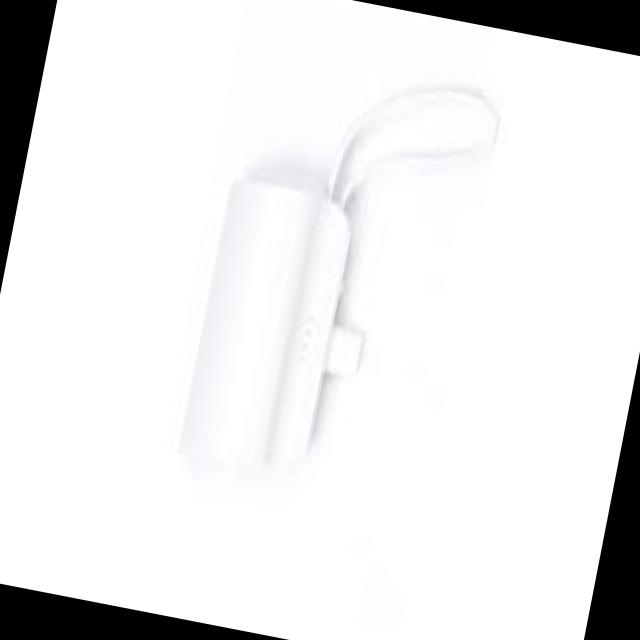power_bank: (163, 171, 392, 493)
